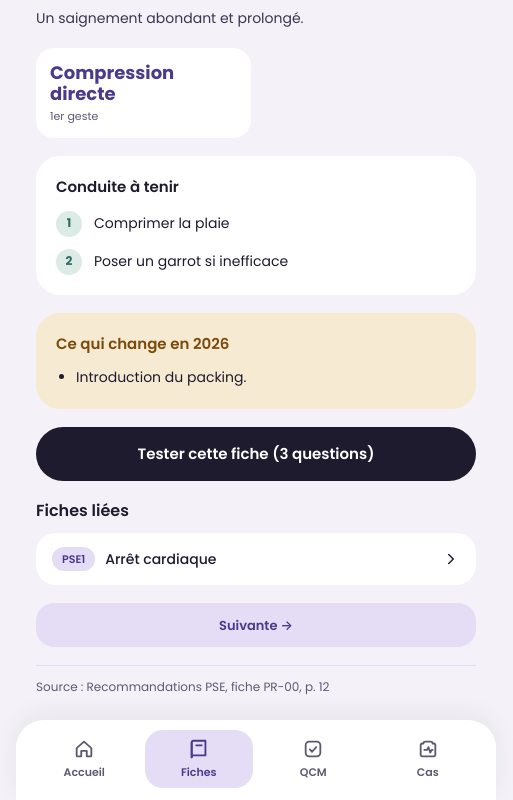
Test: Fiches › navigue vers la fiche suivante du chapitre
(page scrolled)
Click the link "Suivante →" at x=256, y=625, box [36, 603, 476, 647]
(page scrolled)
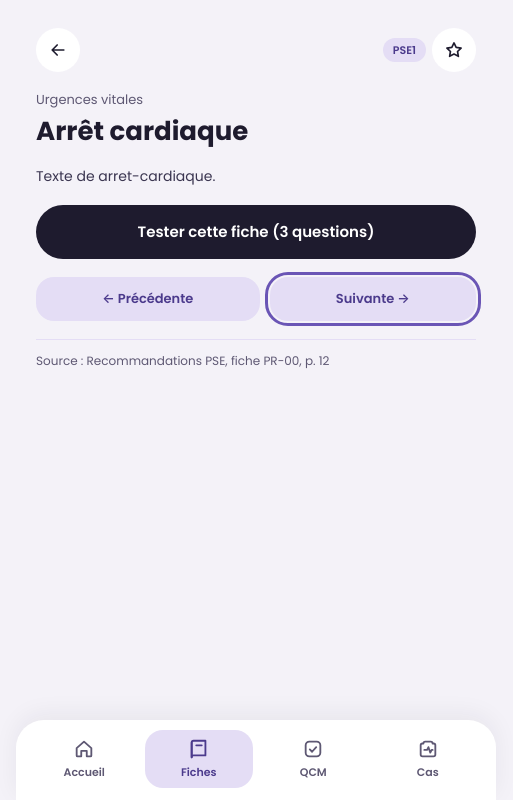
Result: the heading "Arrêt cardiaque" is shown at [36, 112, 248, 148]
